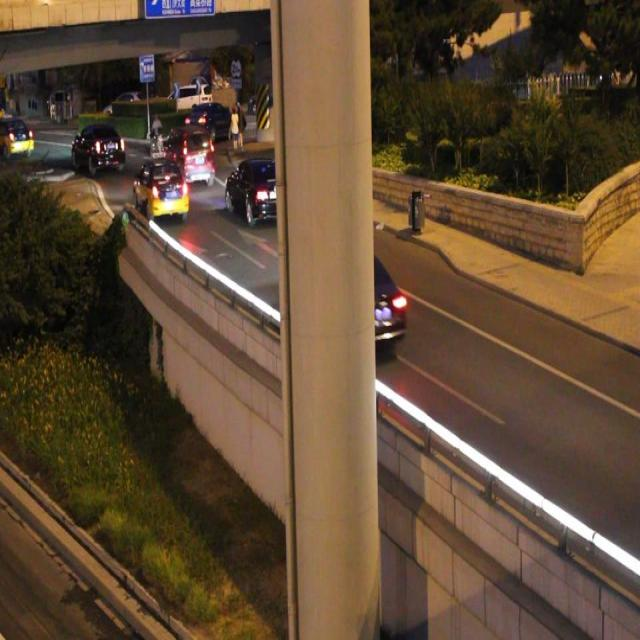car: (292, 240, 407, 350), (223, 154, 290, 226), (132, 152, 190, 222), (164, 125, 215, 186)
